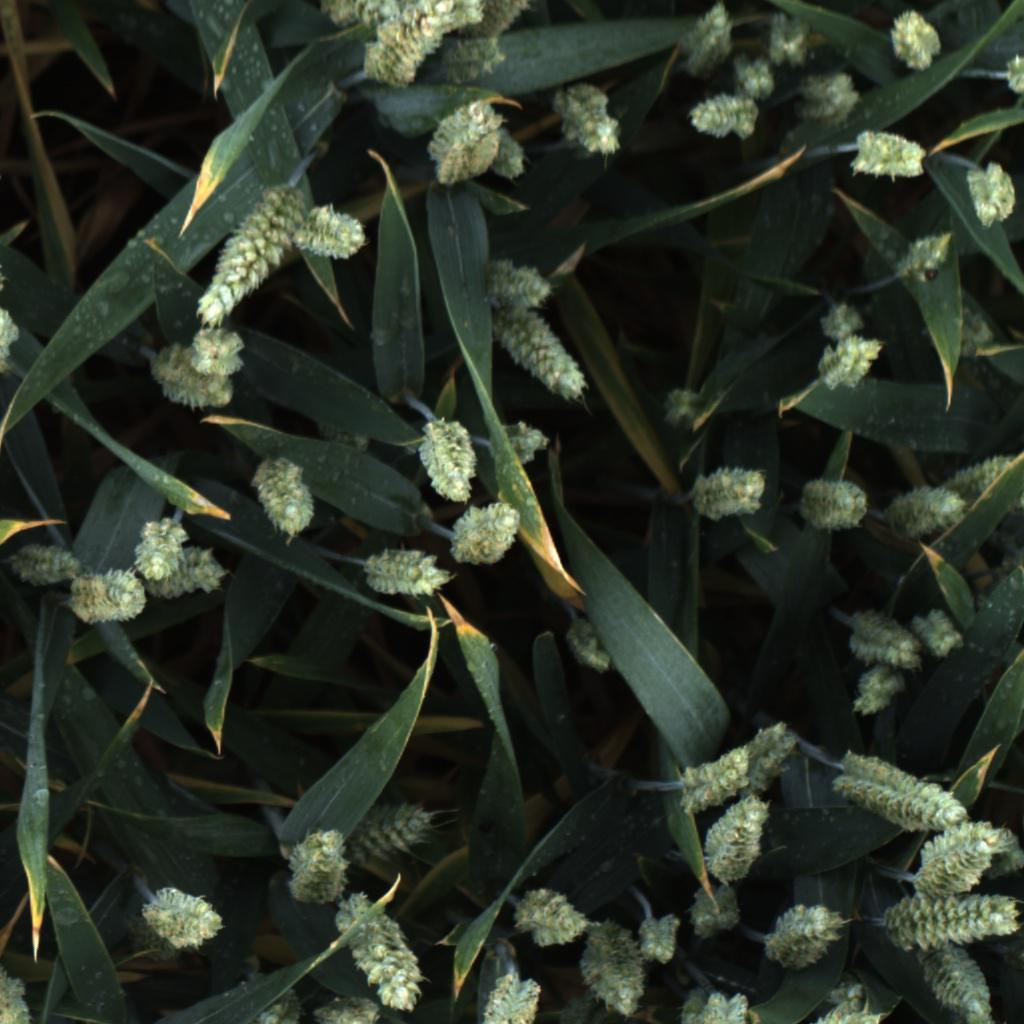0-0: (191, 179, 310, 332), (330, 888, 431, 1016), (828, 747, 971, 830), (498, 310, 593, 408), (909, 812, 1010, 904), (358, 0, 460, 89), (881, 887, 1022, 951), (428, 93, 505, 190), (911, 938, 998, 1023), (141, 346, 240, 419), (673, 740, 761, 820), (761, 895, 850, 974), (347, 796, 445, 866), (63, 564, 155, 637), (580, 919, 647, 1019), (550, 79, 628, 162), (250, 451, 320, 543), (283, 820, 354, 909), (355, 541, 456, 603), (140, 884, 227, 955), (419, 411, 482, 508), (703, 793, 773, 879), (143, 546, 238, 609), (735, 717, 803, 805), (846, 600, 927, 673), (444, 500, 529, 569), (408, 34, 509, 90), (508, 881, 592, 948), (689, 460, 777, 523), (941, 434, 1016, 507), (883, 485, 971, 545), (291, 200, 372, 265), (172, 312, 249, 379), (464, 966, 551, 1024), (881, 7, 948, 79), (676, 0, 740, 74), (795, 65, 866, 130), (813, 333, 890, 392), (0, 539, 87, 588), (484, 254, 555, 314), (122, 517, 188, 581), (684, 89, 759, 145), (853, 131, 930, 185), (959, 161, 1020, 228), (803, 474, 872, 532), (895, 227, 959, 289), (847, 661, 913, 721), (683, 877, 744, 941), (557, 615, 616, 679), (451, 0, 536, 44), (910, 602, 968, 666), (758, 11, 817, 70), (656, 378, 713, 436), (246, 969, 306, 1024), (391, 0, 485, 35), (485, 122, 535, 185), (949, 304, 1002, 363), (501, 413, 550, 475), (632, 910, 685, 967), (977, 823, 1024, 885), (0, 954, 41, 1024), (316, 0, 405, 31), (311, 991, 392, 1024), (809, 299, 864, 342), (736, 56, 780, 103), (0, 304, 24, 378), (807, 995, 867, 1024), (678, 987, 712, 1024), (1001, 50, 1024, 102), (697, 991, 732, 1024), (823, 981, 867, 1007), (723, 990, 753, 1024), (837, 1010, 886, 1024), (960, 1009, 999, 1024)
